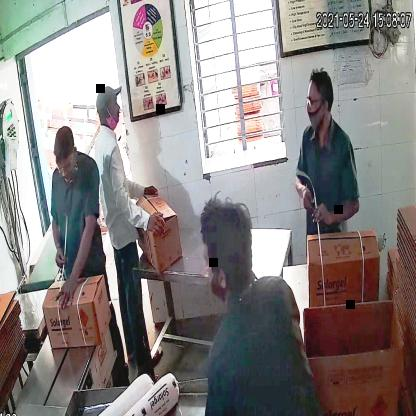goggles: (305, 90, 332, 113)
